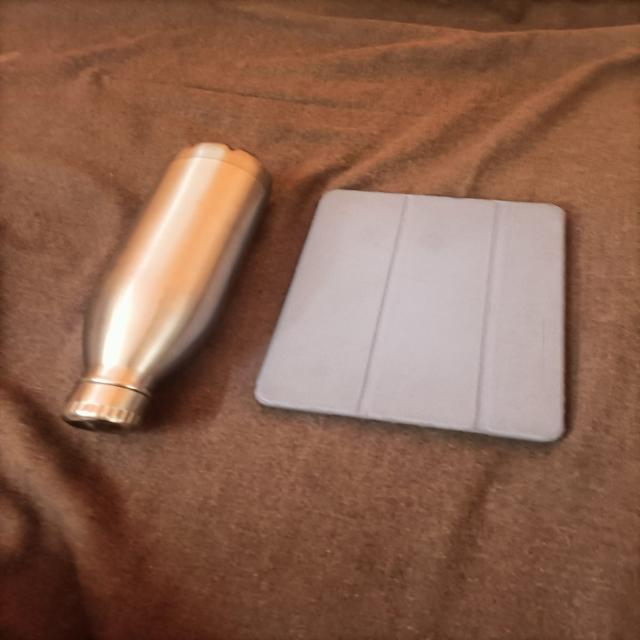bottle: (27, 129, 281, 453)
tablet: (246, 137, 586, 454)
